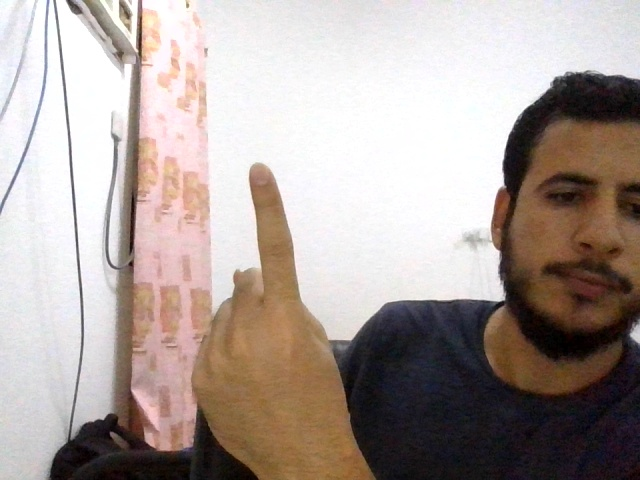One: (191, 163, 353, 480)
